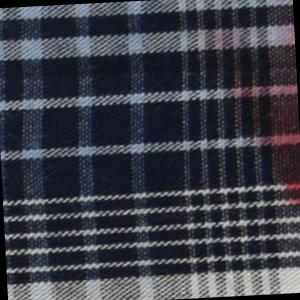Stain: (189, 9, 300, 217)
